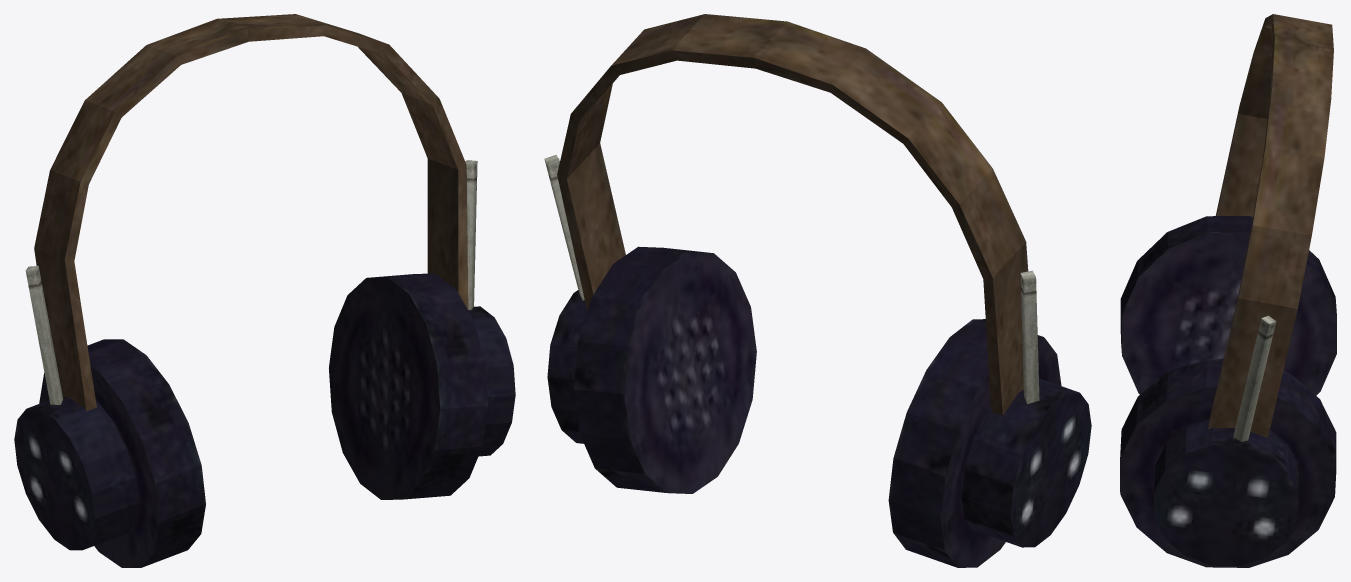
Rendered from military_german_headset.glb.
3 views of the same model, side by side, from view 1: azimuth 30°, elevation 25°; view 2: azimuth 150°, elevation 25°; view 3: azimuth 270°, elevation 25° (orthographic). The views are drawn at different scales.
Bounding box in the file's own units: 11.82 × 11.87 × 5.08.
1 material, 1 textured.
